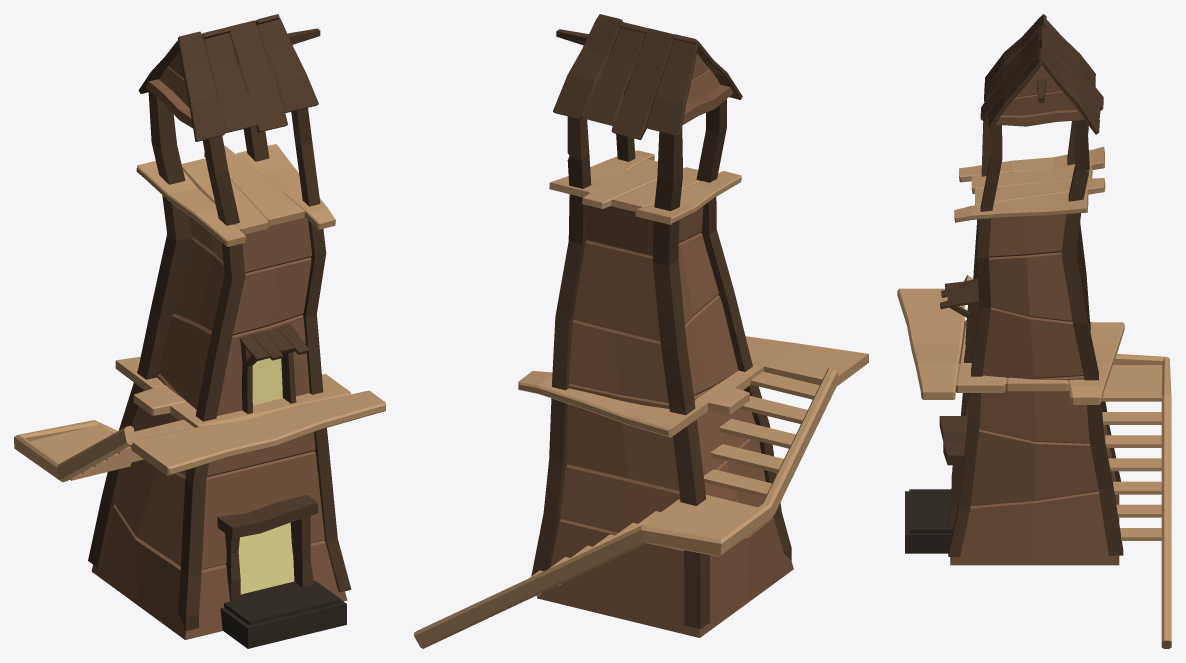
The model's file is Tower.fbx.
3 views of the same model, side by side, from view 1: azimuth 30°, elevation 25°; view 2: azimuth 150°, elevation 25°; view 3: azimuth 270°, elevation 25° (orthographic). The views are drawn at different scales.
Visible parts, largest first — view 1: Tower; view 2: Tower; view 3: Tower.
Boxes of the visible parts, x1=… form: Tower: x1=14, y1=14, x2=385, y2=648; Tower: x1=414, y1=14, x2=868, y2=648; Tower: x1=897, y1=14, x2=1171, y2=648.
Bounding box in the file's own units: 441 × 823 × 374.
